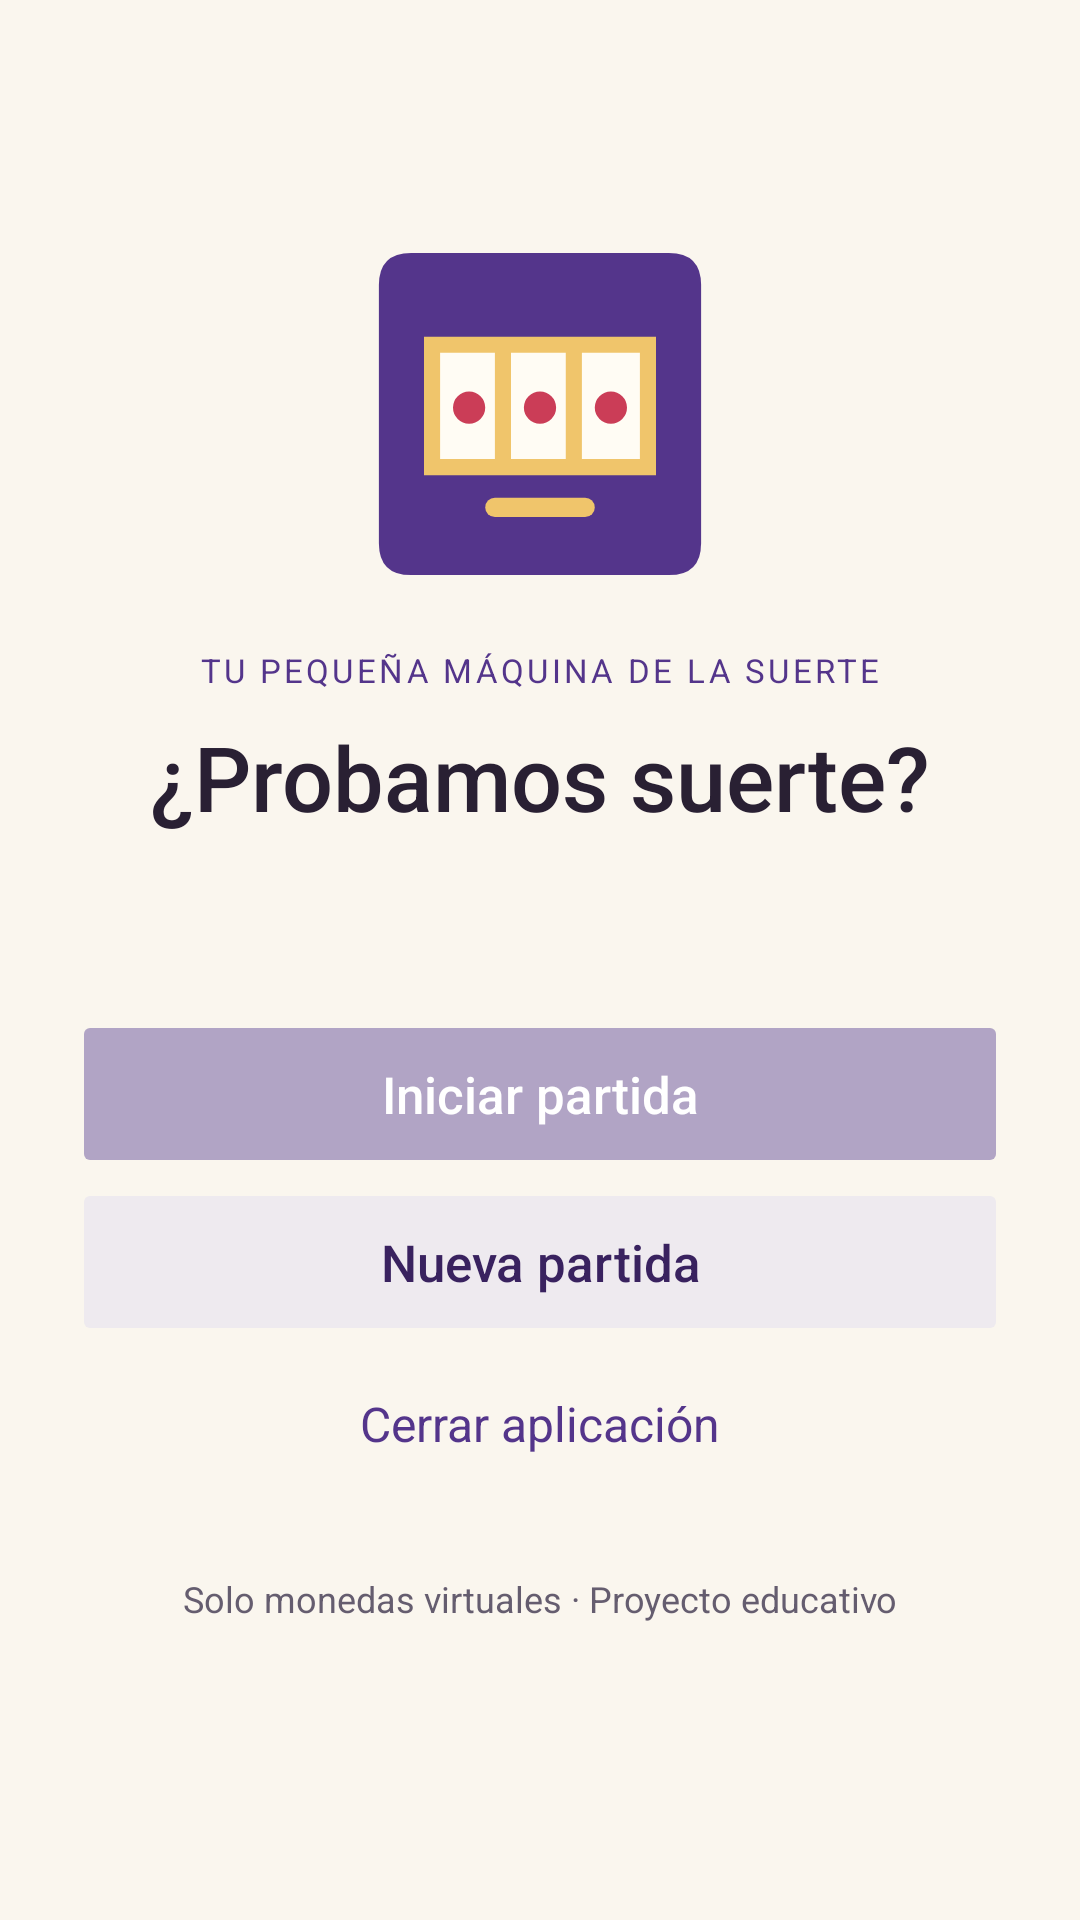

Named icons in this screenshot (1080 × 1920) and their bounding boxes, {"x1": x1, "y1": y1, "x2": x2, "y2": y2}:
app: {"x1": 379, "y1": 253, "x2": 701, "y2": 575}
